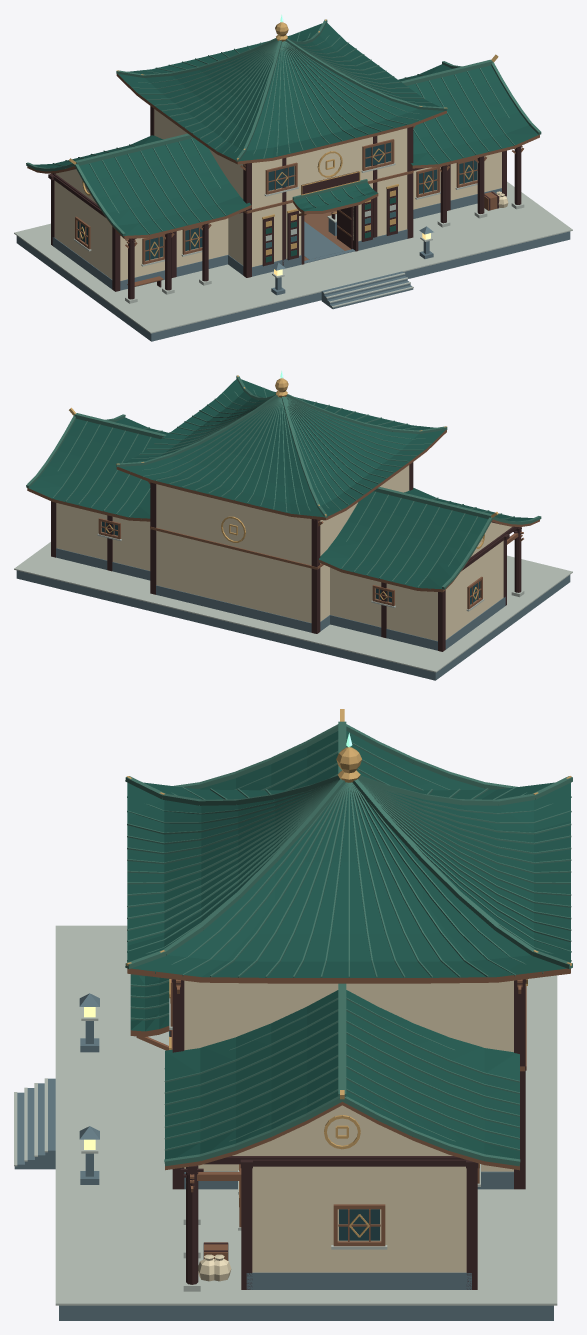
File: exchange_hall.glb
3 renders of one model, top to bottom at view 1: azimuth 30°, elevation 25°; view 2: azimuth 150°, elevation 25°; view 3: azimuth 270°, elevation 25°, orthographic. The views are drawn at different scales.
Visible parts, largest first — view 1: ExchangeHall / Jade, ExchangeHall / Coping, ExchangeHall / Plaster, ExchangeHall / TileLight, ExchangeHall / Timber, ExchangeHall / Stone, ExchangeHall / Cedar, ExchangeHall / Window, ExchangeHall / Bronze, ExchangeHall / Floor; view 2: ExchangeHall / Jade, ExchangeHall / Plaster, ExchangeHall / TileLight, ExchangeHall / Coping, ExchangeHall / Stone, ExchangeHall / Timber, ExchangeHall / Cedar, ExchangeHall / Bronze; view 3: ExchangeHall / Jade, ExchangeHall / Coping, ExchangeHall / TileLight, ExchangeHall / Plaster, ExchangeHall / Stone, ExchangeHall / Timber, ExchangeHall / Cedar, ExchangeHall / Bronze, ExchangeHall / Window.
Boxes of the visible parts, x1,y1,x2,y2 form: ExchangeHall / Jade: (34,23,539,262); ExchangeHall / Coping: (14,163,572,333); ExchangeHall / Plaster: (54,109,508,280); ExchangeHall / TileLight: (26,19,541,236); ExchangeHall / Timber: (48,106,521,299); ExchangeHall / Stone: (16,188,570,341); ExchangeHall / Cedar: (27,74,539,286); ExchangeHall / Window: (77,142,477,260); ExchangeHall / Bronze: (69,19,498,256); ExchangeHall / Floor: (304,210,350,260); ExchangeHall / Jade: (29,379,532,589); ExchangeHall / Plaster: (56,465,511,640); ExchangeHall / TileLight: (26,375,541,589); ExchangeHall / Coping: (14,533,572,672); ExchangeHall / Stone: (16,548,570,680); ExchangeHall / Timber: (51,462,521,651); ExchangeHall / Cedar: (27,429,539,609); ExchangeHall / Bronze: (69,375,498,599); ExchangeHall / Jade: (127,731,570,1159); ExchangeHall / Coping: (14,925,557,1305); ExchangeHall / TileLight: (125,721,572,1166); ExchangeHall / Plaster: (184,980,513,1281); ExchangeHall / Stone: (14,993,553,1320); ExchangeHall / Timber: (170,979,526,1289); ExchangeHall / Cedar: (127,968,570,1260); ExchangeHall / Bronze: (126,709,571,1237); ExchangeHall / Window: (339,1209,379,1240).
Size of the model in its own units: 26.6 by 12.96 by 16.38.
